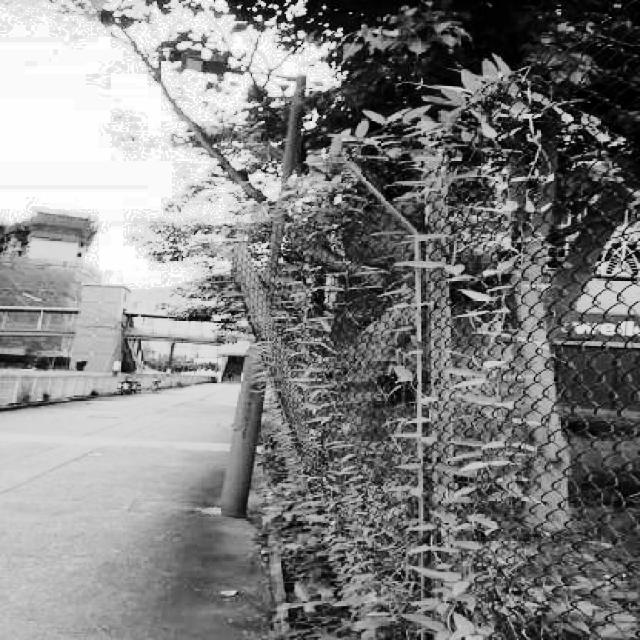anomaly-fence: (175, 163, 425, 587)
